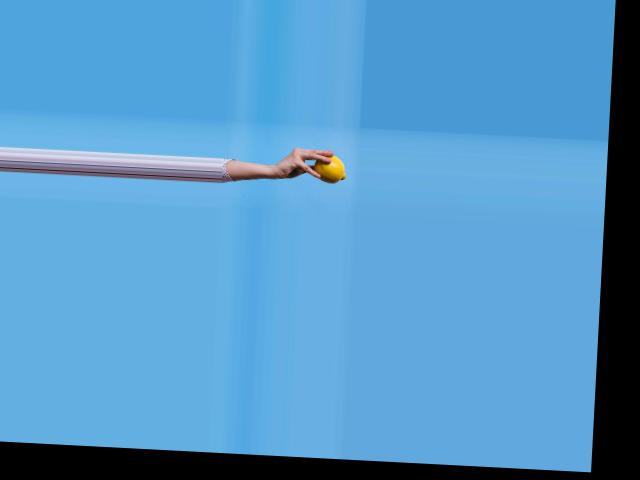lemon: (302, 132, 350, 186)
